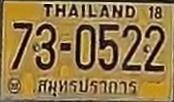0: (75, 23, 95, 69)
2: (143, 24, 164, 71), (122, 24, 140, 70)
3: (33, 23, 55, 69)
5: (98, 23, 118, 70)
7: (12, 22, 33, 69)
SPK: (35, 76, 141, 100)
